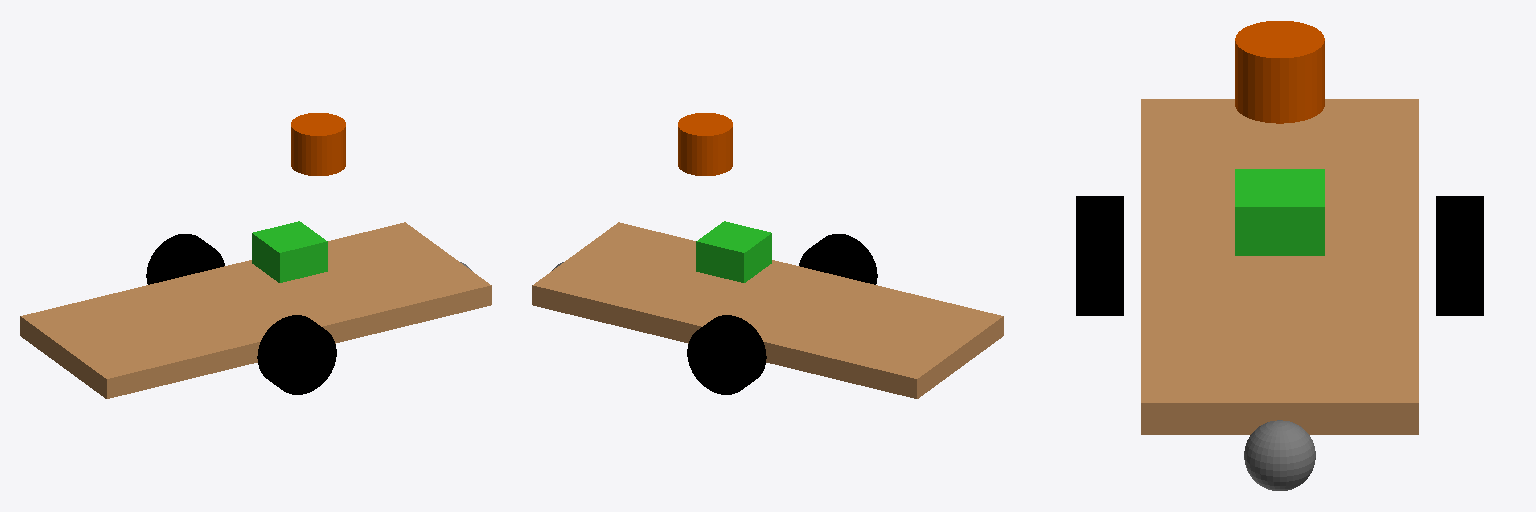
robot.urdf — robot_description:
<?xml version="1.0"?>
<robot name="robot_description">

  <!-- CHASIS -->
  <link name="base_link">
    <visual>
      <geometry>
        <box size="0.40 0.155 0.02"/>
      </geometry>
      <origin xyz="0.015 0 0" rpy="0 0 0"/>
      <material name="beige"><color rgba="0.8 0.6 0.4 1"/></material>
    </visual>
    <collision>
      <geometry>
        <box size="0.19 0.155 0.02"/>
      </geometry>
      <origin xyz="0.015 0 0" rpy="0 0 0"/>
    </collision>
  </link>

  <!-- RUEDA IZQUIERDA -->
  <link name="left_wheel">
    <visual>
      <geometry><cylinder radius="0.0335" length="0.027"/></geometry>
      <origin xyz="0 0 0" rpy="1.5708 0 0"/>
      <material name="black"><color rgba="0 0 0 1"/></material>
    </visual>
    <collision>
      <geometry><cylinder radius="0.0335" length="0.027"/></geometry>
      <origin xyz="0 0 0" rpy="1.5708 0 0"/>
    </collision>
  </link>

  <joint name="left_wheel_joint" type="continuous">
    <parent link="base_link"/>
    <child link="left_wheel"/>
    <origin xyz="0 -0.10 0" rpy="0 0 0"/>
    <axis xyz="0 1 0"/>
  </joint>

  <!-- RUEDA DERECHA -->
  <link name="right_wheel">
    <visual>
      <geometry><cylinder radius="0.0335" length="0.027"/></geometry>
      <origin xyz="0 0 0" rpy="1.5708 0 0"/>
      <material name="black"><color rgba="0 0 0 1"/></material>
    </visual>
    <collision>
      <geometry><cylinder radius="0.0335" length="0.027"/></geometry>
      <origin xyz="0 0 0" rpy="1.5708 0 0"/>
    </collision>
  </link>

  <joint name="right_wheel_joint" type="continuous">
    <parent link="base_link"/>
    <child link="right_wheel"/>
    <origin xyz="0 0.10 0" rpy="0 0 0"/>
    <axis xyz="0 1 0"/>
  </joint>

  <!-- RUEDA LOCA -->
  <link name="caster_wheel">
    <visual>
      <geometry><sphere radius="0.02"/></geometry>
      <origin xyz="0.11 0 -0.01" rpy="0 0 0"/>
      <material name="gray"><color rgba="0.5 0.5 0.5 1"/></material>
    </visual>
    <collision>
      <geometry><sphere radius="0.02"/></geometry>
      <origin xyz="0.11 0 -0.01" rpy="0 0 0"/>
    </collision>
  </link>

  <joint name="caster_joint" type="fixed">
    <parent link="base_link"/>
    <child link="caster_wheel"/>
    <origin xyz="0.11 0 -0.01" rpy="0 0 0"/>
  </joint>

  <!-- IMU: X frente, Y izquierda, Z arriba -->
  <!-- IMU: X frente, Y izquierda, Z arriba -->
  <link name="imu_link">
    <visual>
      <geometry><box size="0.05 0.05 0.03"/></geometry>
      <origin xyz="0.00 0.00 0.03" rpy="0 0 0"/> <!-- o 0.02 0.00 0.03 -->
      <material name="green"><color rgba="0.2 0.8 0.2 1"/></material>
    </visual>
    <collision>
      <geometry><box size="0.02 0.02 0.01"/></geometry>
      <origin xyz="0.00 0.00 0.03" rpy="0 0 0"/>
    </collision>
  </link>

  <joint name="imu_mount" type="fixed">
    <parent link="base_link"/>
    <child link="imu_link"/>
    <origin xyz="0.05 0.00 0.02" rpy="0 0 0"/> <!-- igual que arriba -->
  </joint>
  
  
  
  
  
  
  
  
  <link name="laser">
        <visual>
            <geometry>
                <cylinder radius="0.025" length="0.04"/> </geometry>
            <origin xyz="0 0 0" rpy="0 0 0"/>
            <material name="red_lidar"/>
        </visual>
        <collision>
            <geometry>
                <cylinder radius="0.025" length="0.04"/>
            </geometry>
            <origin xyz="0 0 0" rpy="0 0 0"/>
        </collision>
    </link>

    <joint name="lidar_joint" type="fixed">
        <parent link="base_link"/>
        <child link="laser"/>
        <origin xyz="0.08 0.0 0.15" rpy="0 0 0"/>
    </joint>
  
  
  
  
  
  
  
  
  


</robot>

--- What the picture shows (computed from the rendered views, not written in the file) ---
3 views of the same robot in one strip: view 1: azimuth 30°, elevation 25°; view 2: azimuth 150°, elevation 25°; view 3: azimuth 270°, elevation 25° (orthographic).
Robot: robot_description — 6 links, 5 joints (2 continuous, 3 fixed); root link base_link; default pose: every joint at zero.
Visible links, largest first — view 1: base_link, left_wheel, imu_link, laser, right_wheel; view 2: base_link, right_wheel, imu_link, laser, left_wheel; view 3: base_link, laser, imu_link, left_wheel, right_wheel, caster_wheel.
Link boxes in pixels (x1,y1,x2,y2): base_link: (20, 222, 491, 398); left_wheel: (257, 315, 336, 394); imu_link: (252, 221, 327, 282); laser: (291, 113, 345, 175); right_wheel: (146, 234, 224, 284); base_link: (532, 222, 1003, 398); right_wheel: (687, 315, 766, 394); imu_link: (696, 221, 771, 282); laser: (678, 113, 732, 175); left_wheel: (799, 234, 877, 284); base_link: (1141, 99, 1418, 434); laser: (1235, 21, 1324, 123); imu_link: (1235, 169, 1324, 255); left_wheel: (1076, 196, 1123, 315); right_wheel: (1436, 196, 1483, 315); caster_wheel: (1244, 420, 1315, 490).
Bounding box of the posed robot: 0.425 × 0.227 × 0.21 m (x, y, z).
Geometry: primitives only (box / cylinder / sphere), no mesh files.